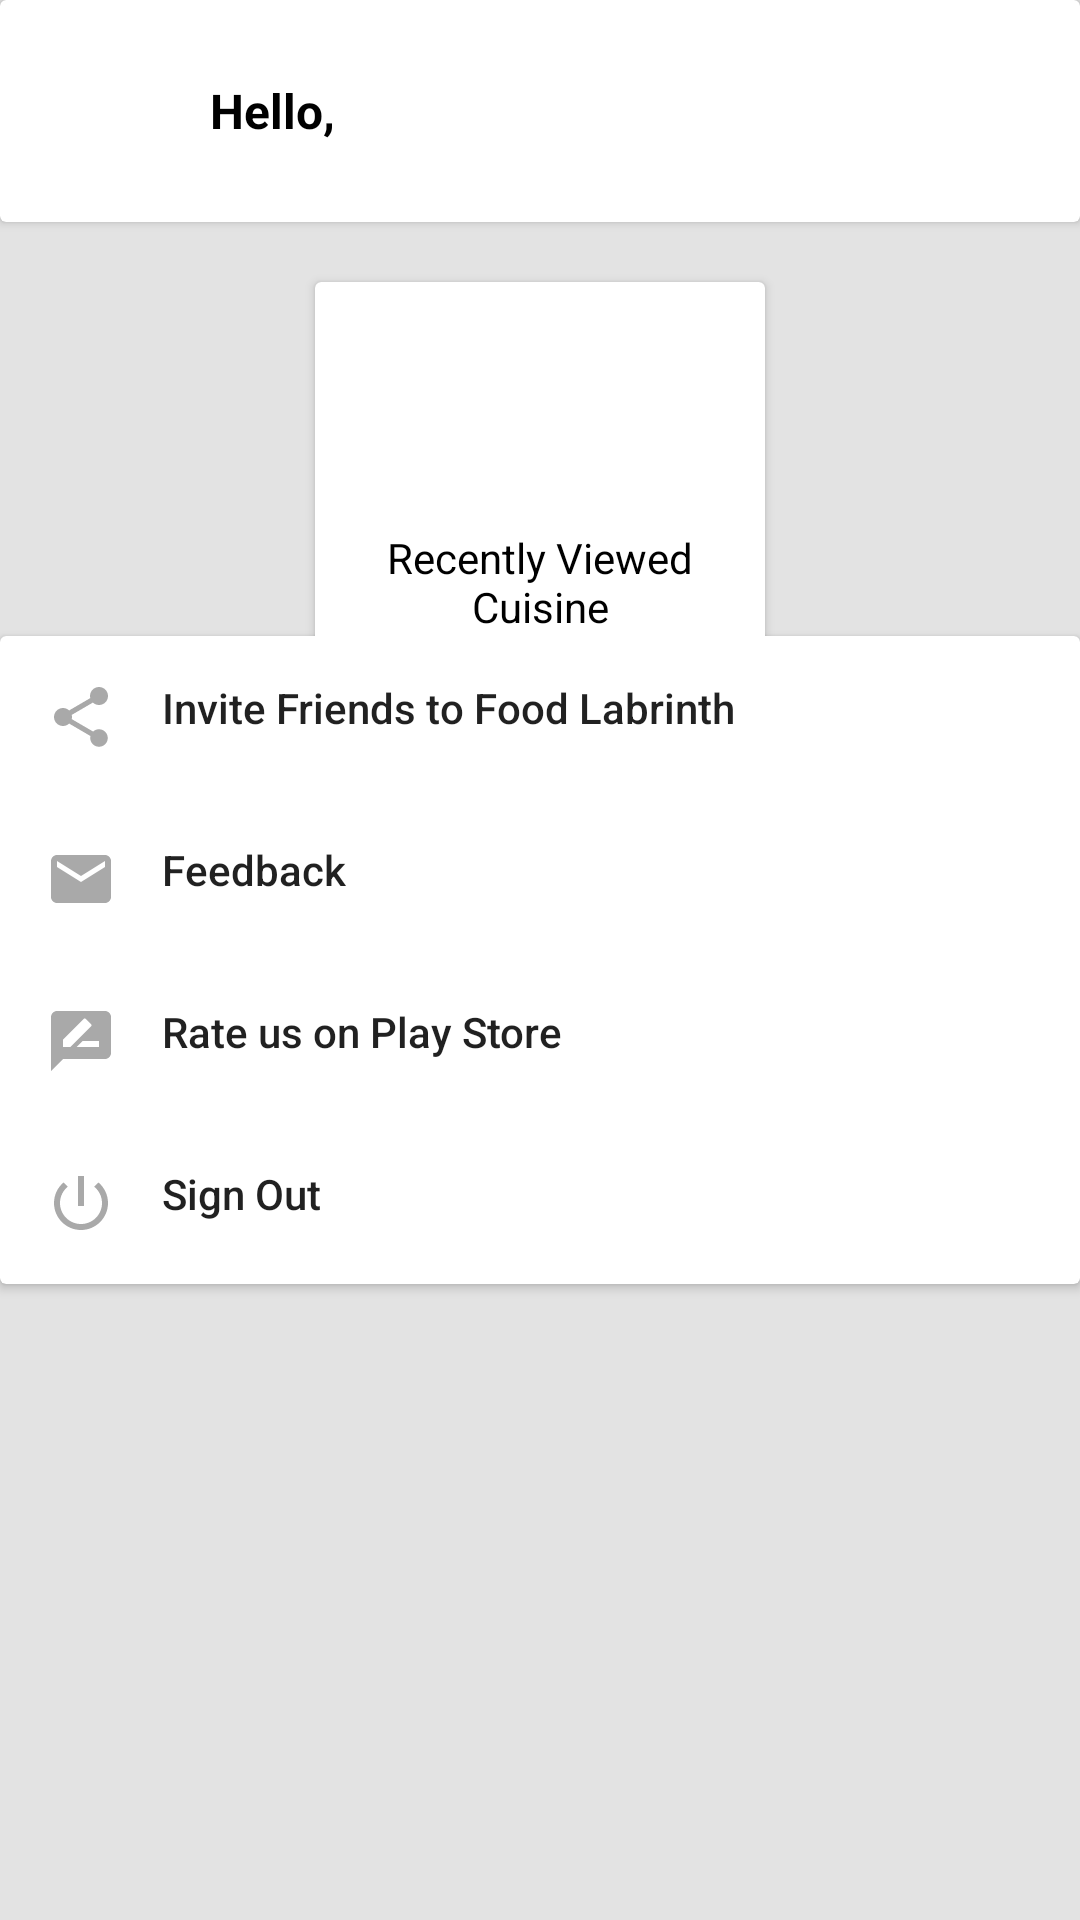

Icon click points for this 1080*1920 phone screenshot, format point (x, y):
email: point (81, 879)
power settings: point (81, 1203)
rate review: point (81, 1041)
share: point (81, 717)
